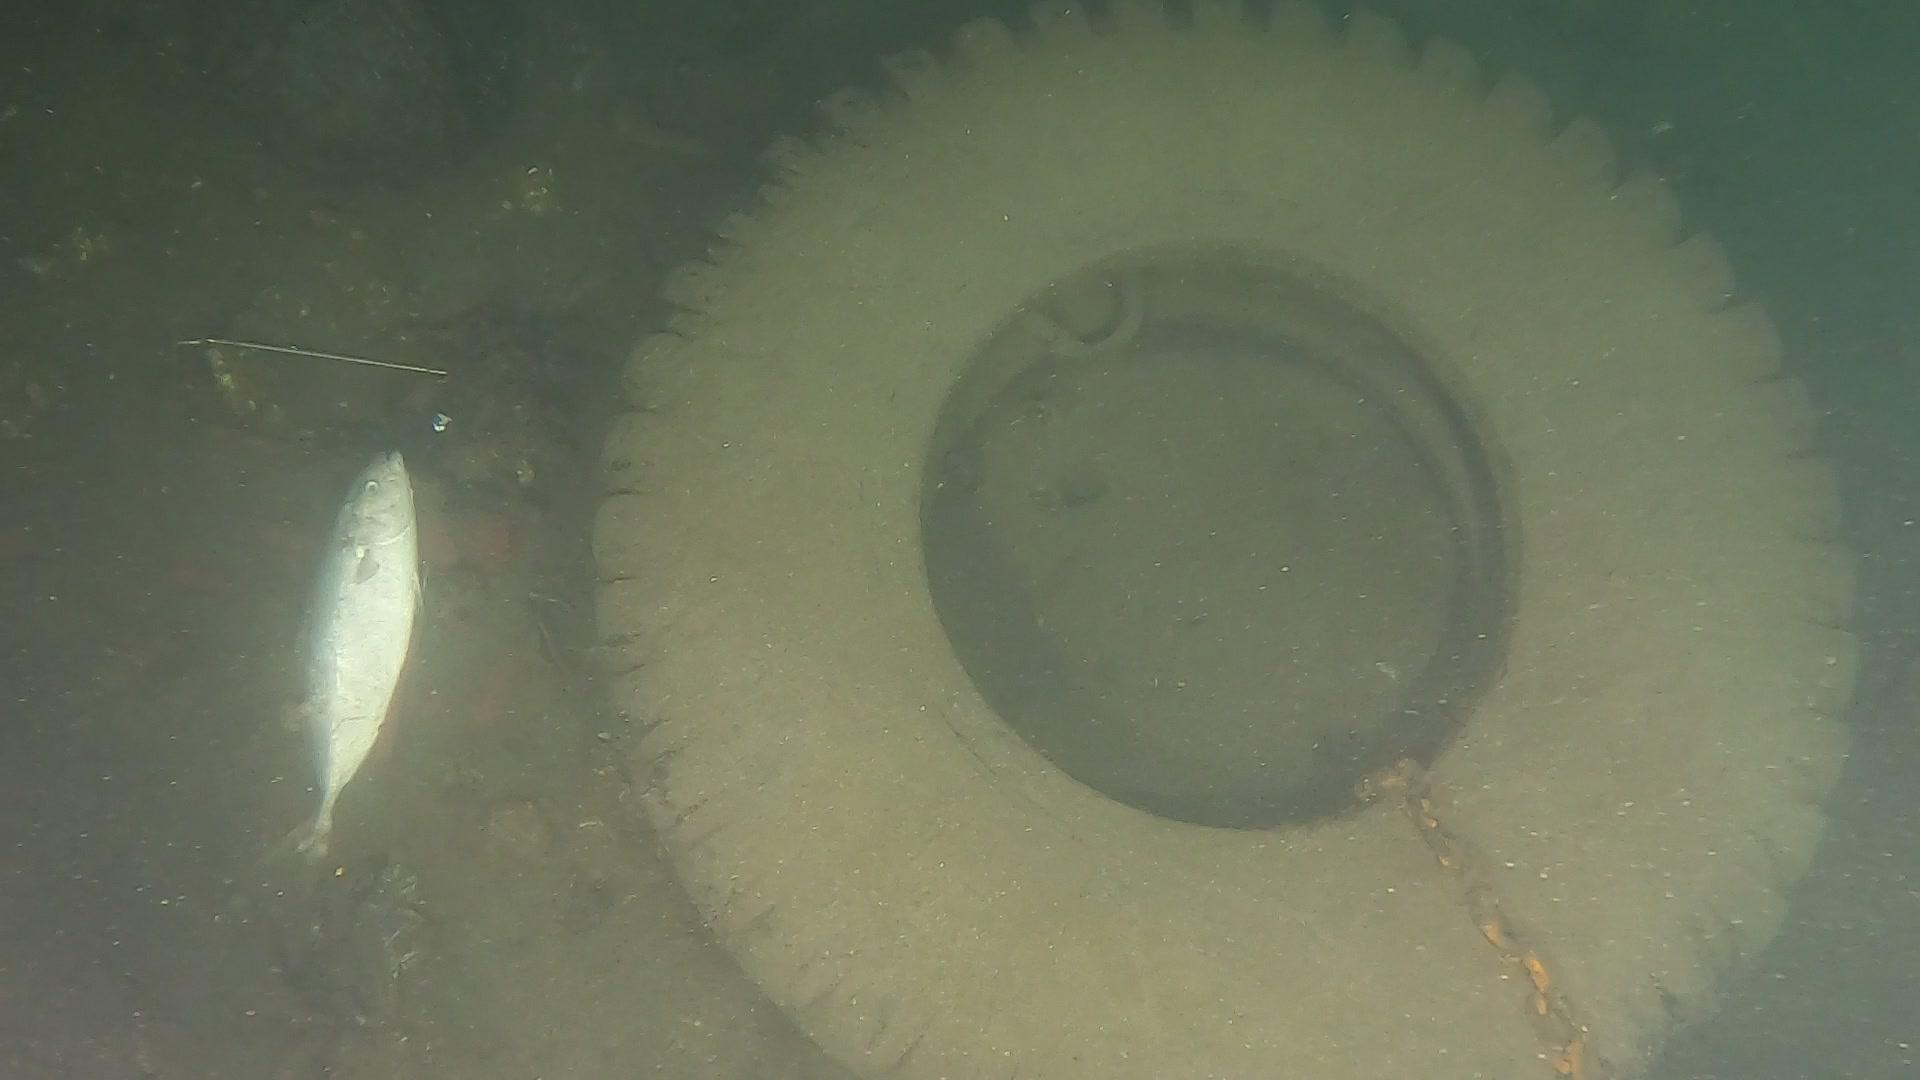tire: (585, 0, 1865, 1080)
